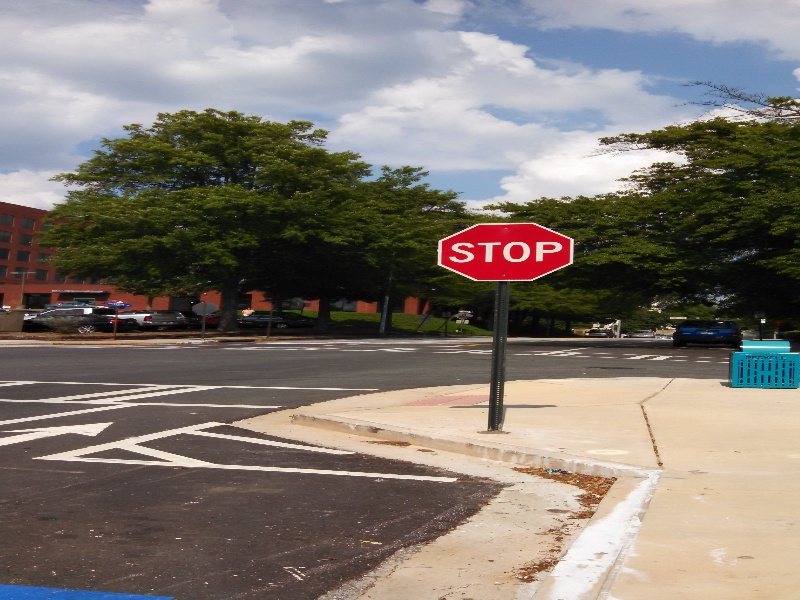stop sign: (433, 220, 580, 286)
